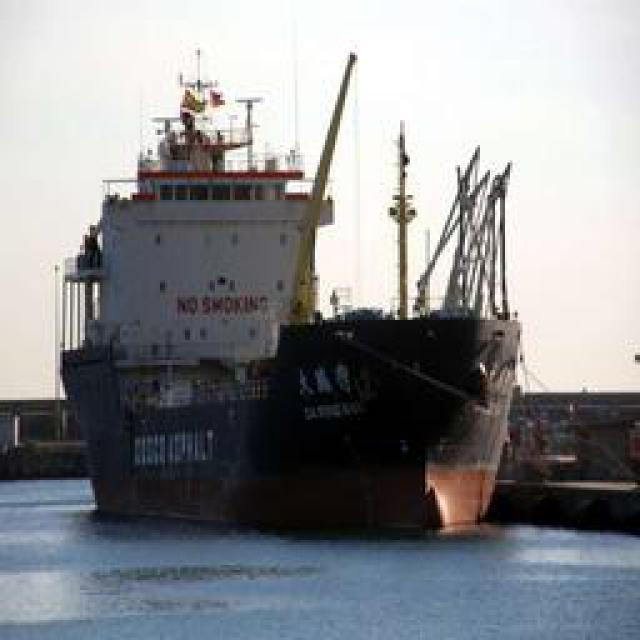Ship: (70, 31, 529, 548)
